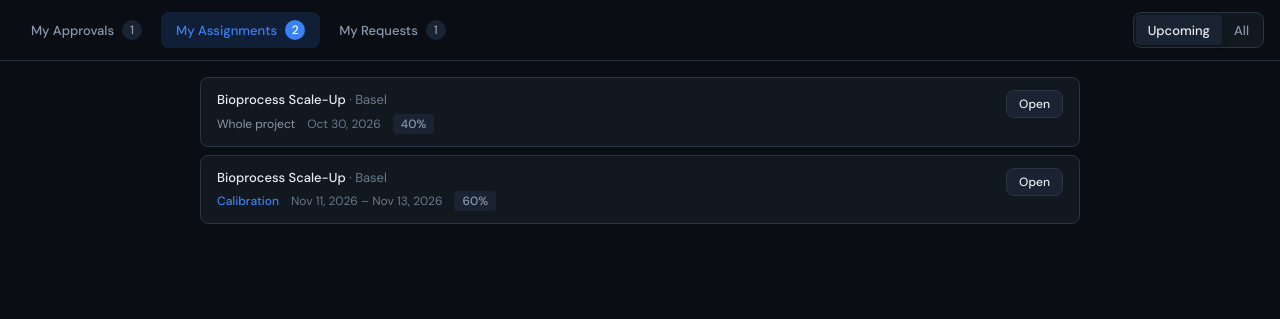
My Assignments › shows the past bookings under All, a linked one with its pin
The image size is (1280, 319).
Step 1. Click the button "All" → (1242, 30), box left=1222, top=15, right=1261, bottom=45
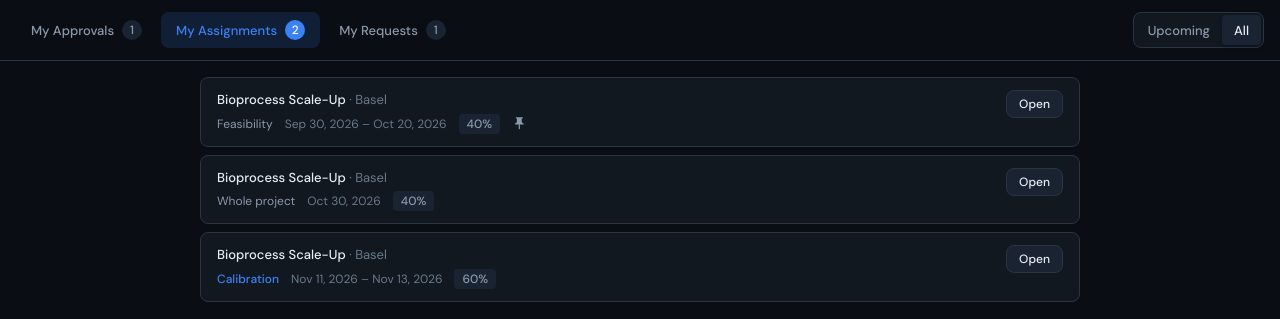
Expected: the number of list items is 3, left=200, top=77, right=1080, bottom=146; left=200, top=154, right=1080, bottom=224; left=200, top=232, right=1080, bottom=302
Expected: the list item with aria-label "Follows the phase dates" shows "Feasibility", left=217, top=116, right=273, bottom=132
Expected: the picture named "Follows the phase dates" is shown, left=512, top=116, right=527, bottom=131
Step 2. Click the button "Upcoming" → (1179, 30), box left=1136, top=15, right=1222, bottom=45
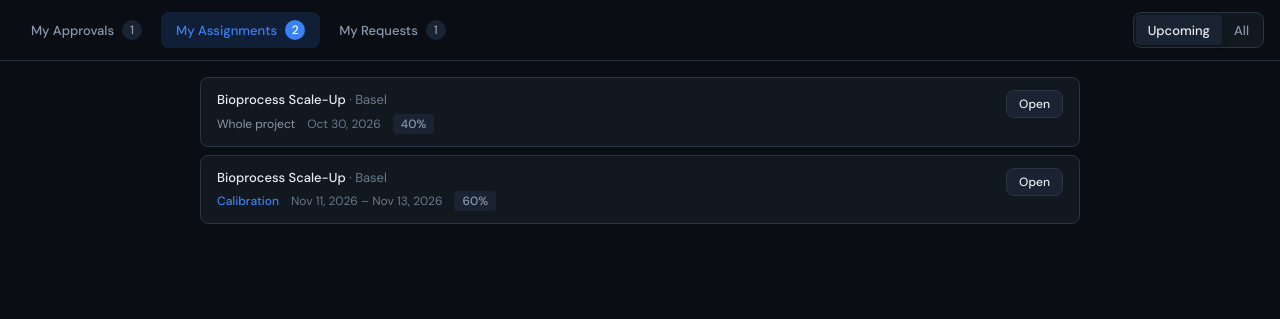
Expected: the number of list items is 2, left=200, top=77, right=1080, bottom=146; left=200, top=154, right=1080, bottom=224
